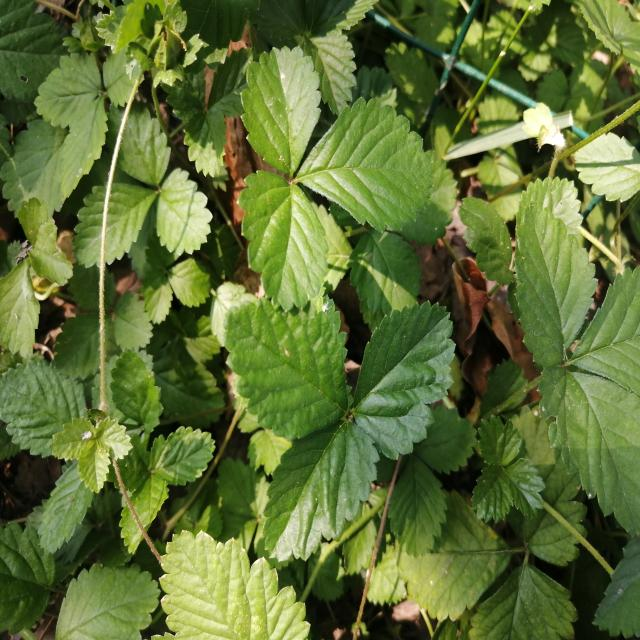Mock_strawberry: (210, 23, 437, 303)
